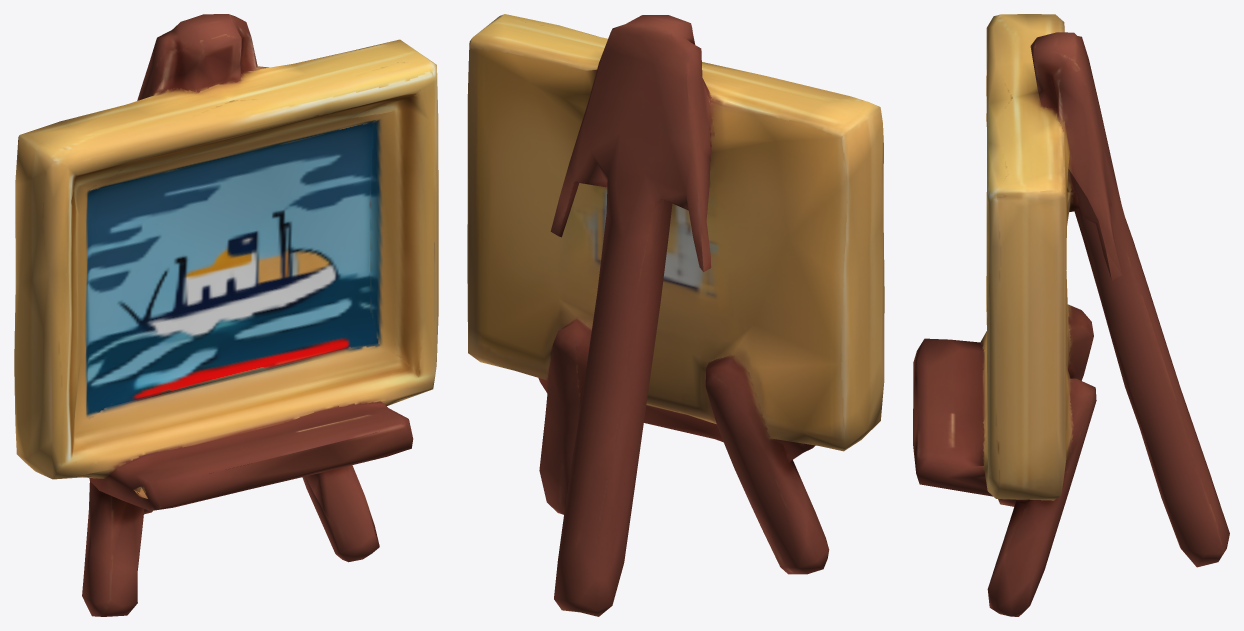
Rendered from loot-art.glb.
The picture shows the model from 3 angles, left to right: view 1: azimuth 30°, elevation 25°; view 2: azimuth 150°, elevation 25°; view 3: azimuth 270°, elevation 25°; orthographic projection. The views are drawn at different scales.
Visible parts, largest first — view 1: geometry_0.001; view 2: geometry_0.001; view 3: geometry_0.001.
Boxes of the visible parts, x1,y1,x2,y2 form: geometry_0.001: (14, 14, 438, 616); geometry_0.001: (467, 14, 884, 616); geometry_0.001: (913, 14, 1229, 616).
Size of the model in its own units: 0.7502 by 0.9988 by 0.5505.
Materials: 1 (1 with a texture image).
